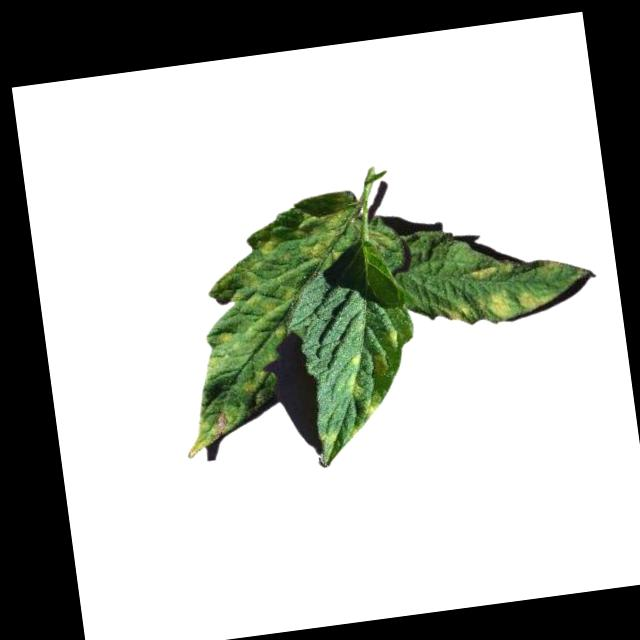Leaf_Mold: (151, 208, 375, 457), (440, 283, 551, 330), (344, 347, 398, 420), (468, 251, 563, 287)
